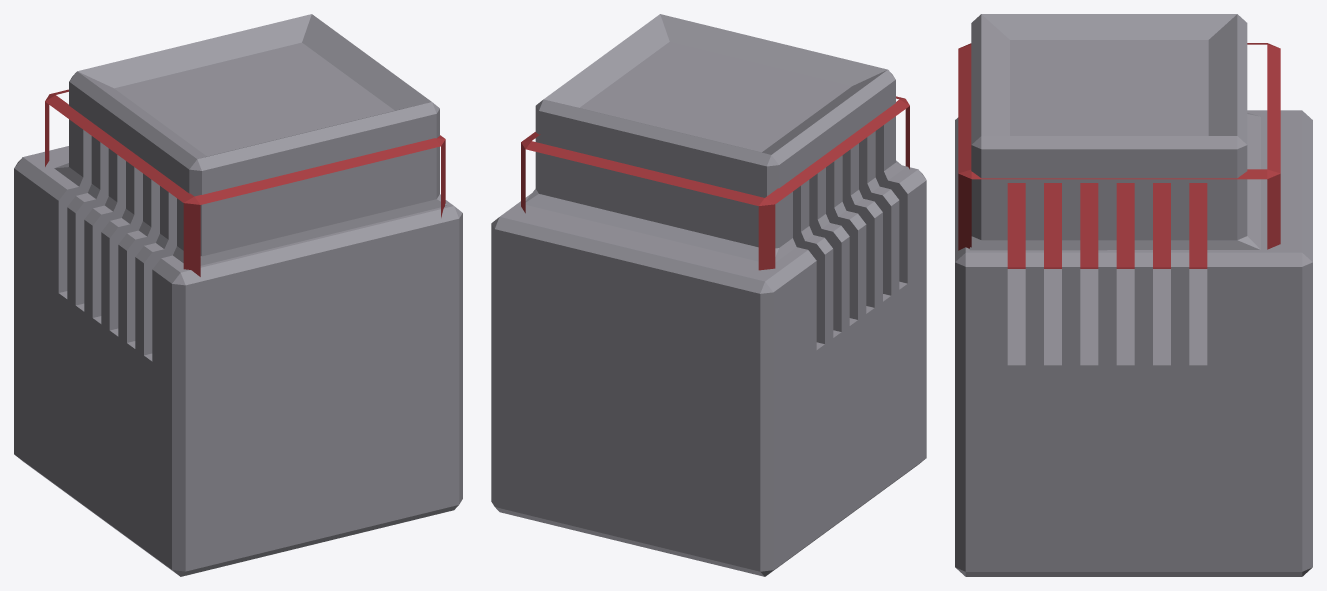
File: hills_.fbx
3 renders of one model, left to right at view 1: azimuth 30°, elevation 25°; view 2: azimuth 150°, elevation 25°; view 3: azimuth 270°, elevation 25°, orthographic. The views are drawn at different scales.
Visible parts, largest first — view 1: Cube.002, Cube.003; view 2: Cube.002, Cube.003; view 3: Cube.002, Cube.003.
Part boxes in pixels (x1,y1,x2,y2): Cube.002: (14, 14, 462, 576); Cube.003: (45, 89, 445, 276); Cube.002: (491, 14, 926, 576); Cube.003: (521, 96, 909, 270); Cube.002: (955, 14, 1312, 576); Cube.003: (958, 43, 1280, 268).
Size of the model in its own units: 200 by 267 by 200.
